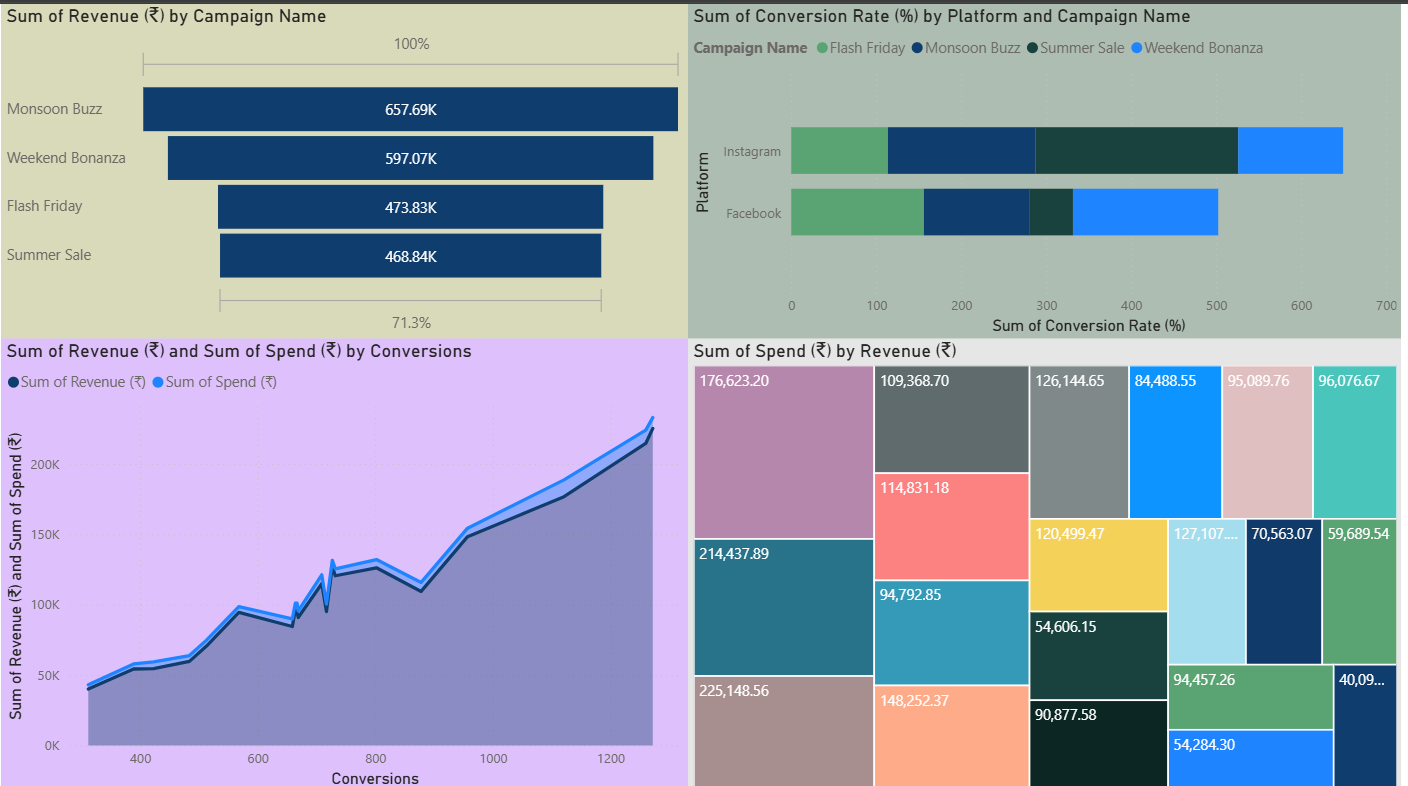

This screenshot's page, from the dashboard's own definition file:
{"tool":"powerbi","page":{"name":"Page 2","canvas":[1280,720],"ordinal":1},"visuals":[{"type":"funnel","fields":{"Y":["Sum(Sheet1.Revenue (₹))"],"Category":["Sheet1.Campaign Name"]},"box":[0,0,628.3,306],"z":0},{"type":"stackedAreaChart","fields":{"Y":["Sum(Sheet1.Revenue (₹))","Sum(Sheet1.Spend (₹))"],"Category":["Sheet1.Conversions"]},"box":[0,306,628.3,414.5],"z":1000},{"type":"barChart","fields":{"Category":["Sheet1.Platform"],"Series":["Sheet1.Campaign Name"],"Y":["Sum(Sheet1.Conversion Rate (%))"]},"box":[628.3,0,652.5,306],"z":2000},{"type":"treemap","fields":{"Values":["Sum(Sheet1.Spend (₹))"],"Group":["Sheet1.Revenue (₹)"]},"box":[628.3,306,652.5,414.5],"z":3000}]}

Visuals, with their boxes in screenshot pixels (x1, y1, x2, y2), scaled from the page's 1280x720 canvas onto the 1408x786 screenshot:
funnel - Sum(Sheet1.Revenue (₹)) x Sheet1.Campaign Name: rect(0, 0, 691, 334)
stackedAreaChart - Sum(Sheet1.Revenue (₹)) x Sum(Sheet1.Spend (₹)): rect(0, 334, 691, 785)
barChart - Sheet1.Platform x Sheet1.Campaign Name: rect(691, 0, 1407, 334)
treemap - Sum(Sheet1.Spend (₹)) x Sheet1.Revenue (₹): rect(691, 334, 1407, 785)
